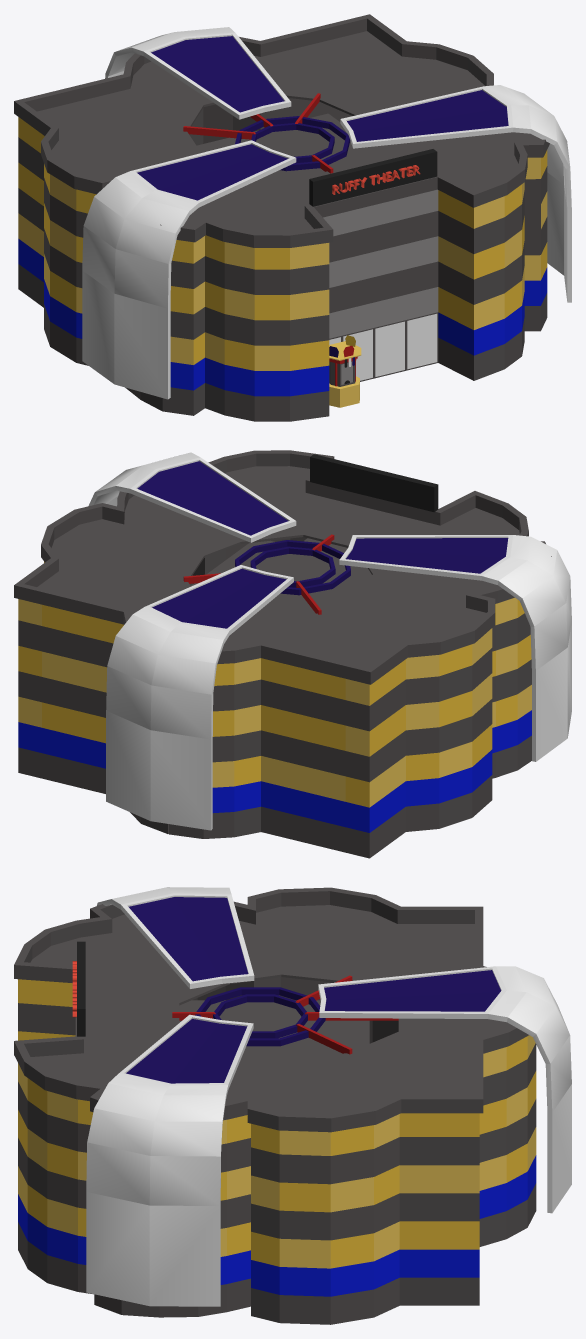
Rendered from Ruffy_movie_theater_outside.fbx.
3 renders of one model, top to bottom at view 1: azimuth 30°, elevation 25°; view 2: azimuth 150°, elevation 25°; view 3: azimuth 270°, elevation 25°, orthographic. The views are drawn at different scales.
Parts seen in each view (by area): view 1: Ruffy_theater_outside, movie_theater.007, Plane.005, Plane.001, Cube.010, Circle, Cube.009, Cube.001, Text; view 2: Ruffy_theater_outside, movie_theater.007, Plane.005, Plane.001, Cube.009, Cube.010, Circle; view 3: Ruffy_theater_outside, movie_theater.007, Plane.005, Plane.001, Cube.009, Circle, Cube.010.
Part boxes in pixels (x1=…): Ruffy_theater_outside: x1=18, y1=98, x2=547, y2=421; movie_theater.007: x1=82, y1=27, x2=571, y2=399; Plane.005: x1=37, y1=31, x2=538, y2=232; Plane.001: x1=14, y1=14, x2=549, y2=247; Cube.010: x1=309, y1=149, x2=437, y2=206; Circle: x1=183, y1=93, x2=350, y2=173; Cube.009: x1=197, y1=113, x2=365, y2=177; Cube.001: x1=329, y1=335, x2=361, y2=407; Text: x1=332, y1=165, x2=420, y2=194; Ruffy_theater_outside: x1=18, y1=537, x2=531, y2=858; movie_theater.007: x1=88, y1=452, x2=571, y2=830; Plane.005: x1=37, y1=466, x2=519, y2=667; Plane.001: x1=14, y1=450, x2=551, y2=684; Cube.009: x1=191, y1=538, x2=372, y2=620; Cube.010: x1=310, y1=454, x2=438, y2=512; Circle: x1=183, y1=534, x2=350, y2=614; Ruffy_theater_outside: x1=18, y1=977, x2=536, y2=1324; movie_theater.007: x1=86, y1=887, x2=571, y2=1306; Plane.005: x1=30, y1=905, x2=511, y2=1114; Plane.001: x1=14, y1=887, x2=528, y2=1132; Cube.009: x1=179, y1=1000, x2=369, y2=1059; Circle: x1=172, y1=975, x2=398, y2=1054; Cube.010: x1=77, y1=941, x2=85, y2=1036.
Bounding box in the file's own units: 3806 × 1704 × 3656.
Materials: 2 (1 with a texture image).
